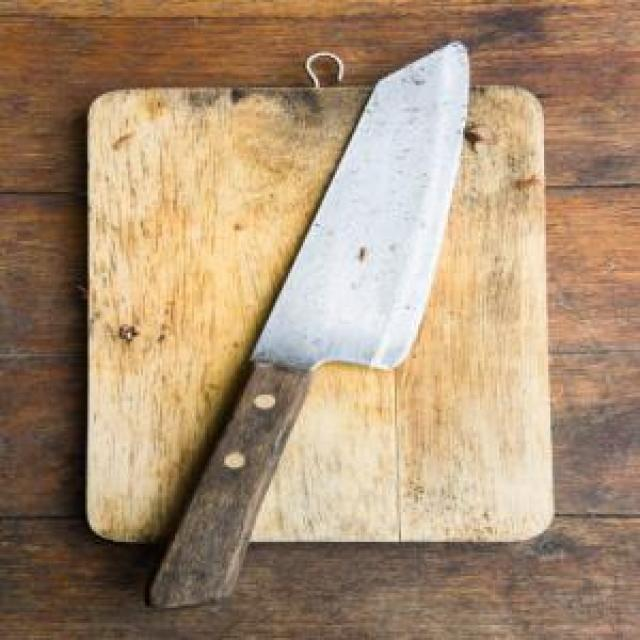knife: (134, 39, 477, 614)
